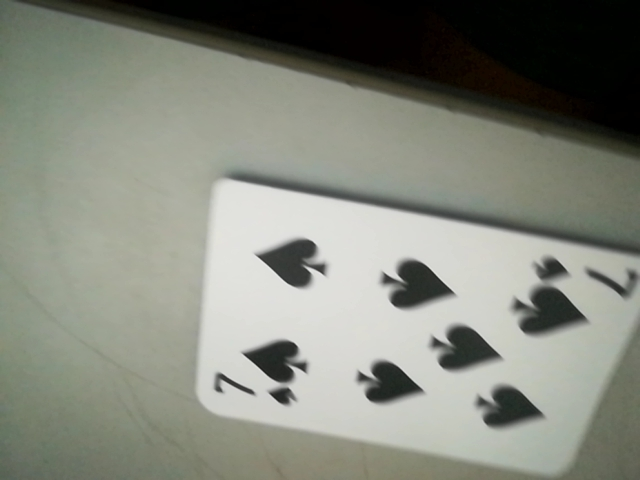ht 7: (204, 370, 302, 414)
